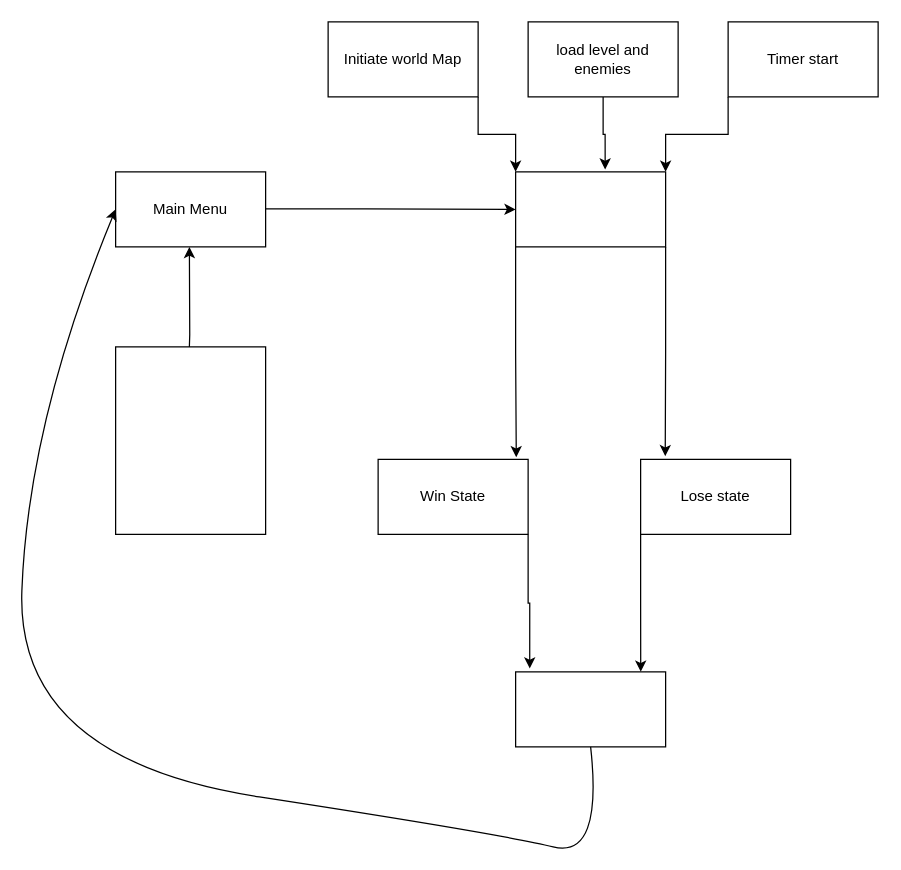
The diagram is 901 pixels wide and 870 high, and some of its shapes have lost their labels. Here are the shapes that lost their labels. From the top down, the centre of each, then its label:
the point at 590,209: PLAY
the point at 190,440: Save system Game Controllers Audio Sound Exit
the point at 590,709: Victory/Loss screen
